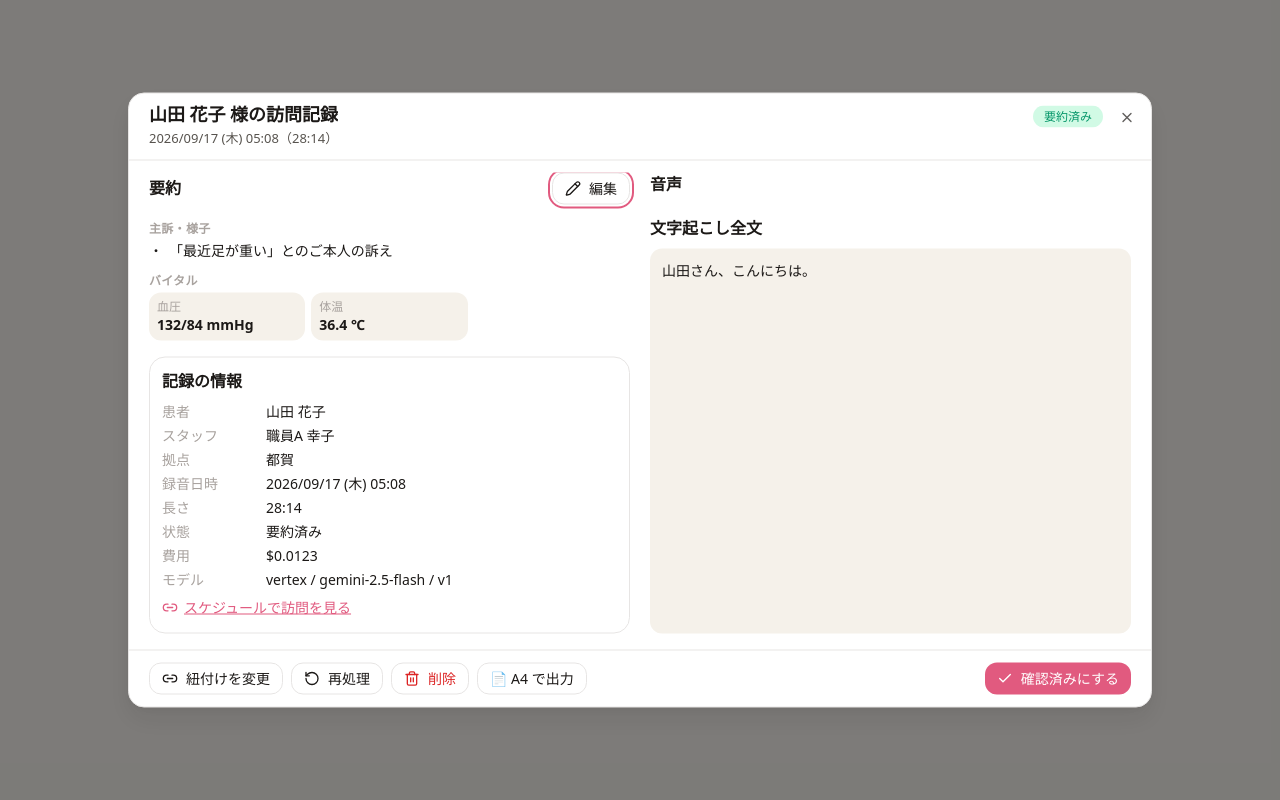
Test: RecordDetailDialog › 「紐付けを変更」で患者コンボボックス行が出る（未選択では確定できない）
This screenshot has width=1280, height=800.
Click the button with test id "record-relink" at (216, 678), box [149, 662, 283, 694]
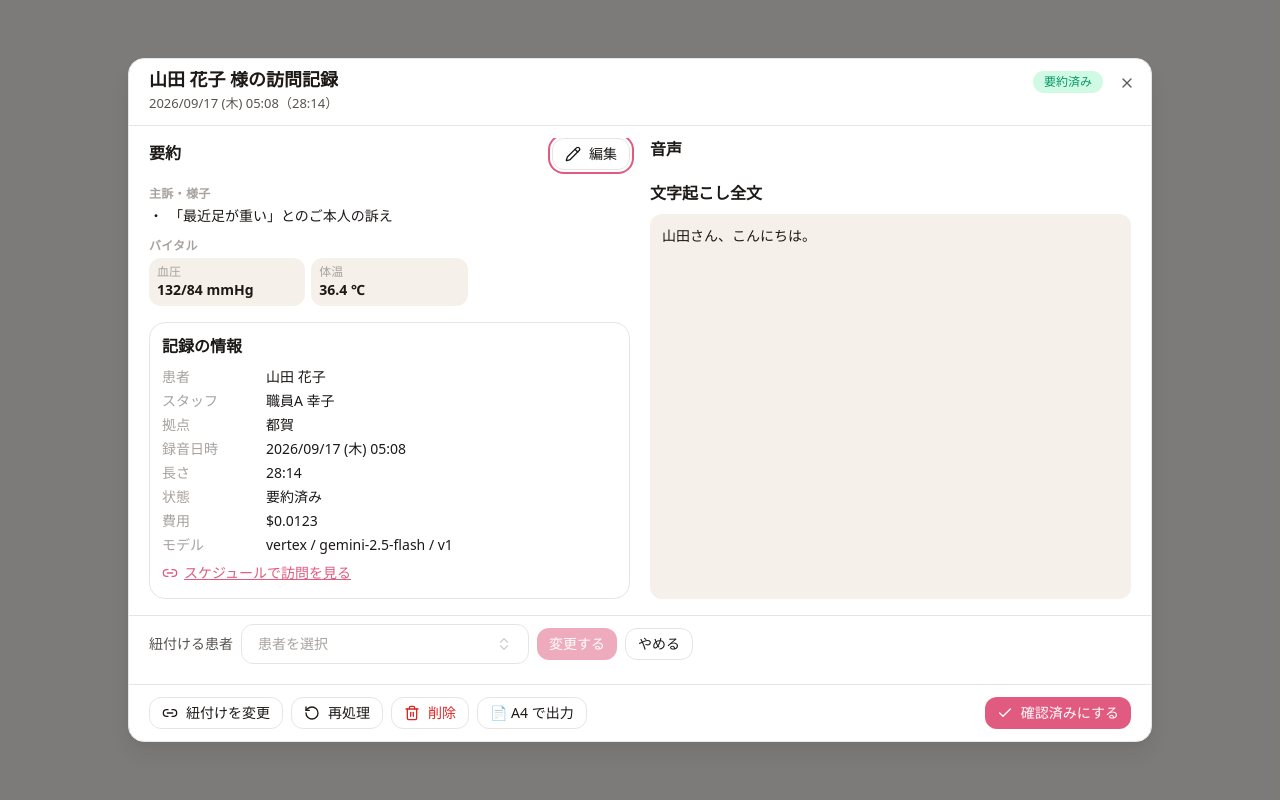
Check: the element with test id "record-relink-row" is shown, box [129, 615, 1151, 672]
Check: the button "変更する" is disabled, box [537, 628, 617, 660]
